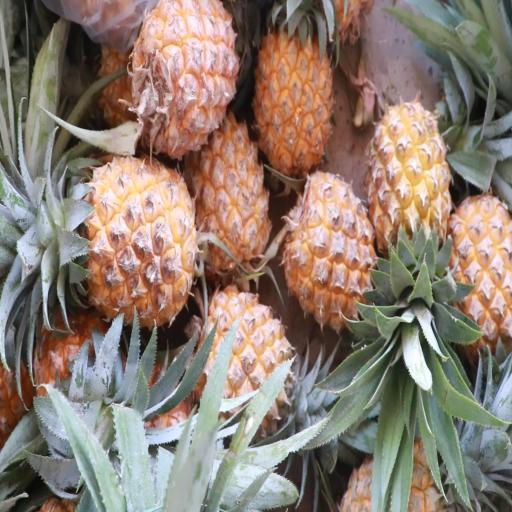Pineapple - v8 v1: (29, 152, 199, 330), (126, 1, 240, 164), (190, 281, 304, 439), (364, 101, 453, 298), (280, 166, 383, 336), (252, 2, 335, 186), (192, 100, 273, 276), (445, 187, 512, 375)
